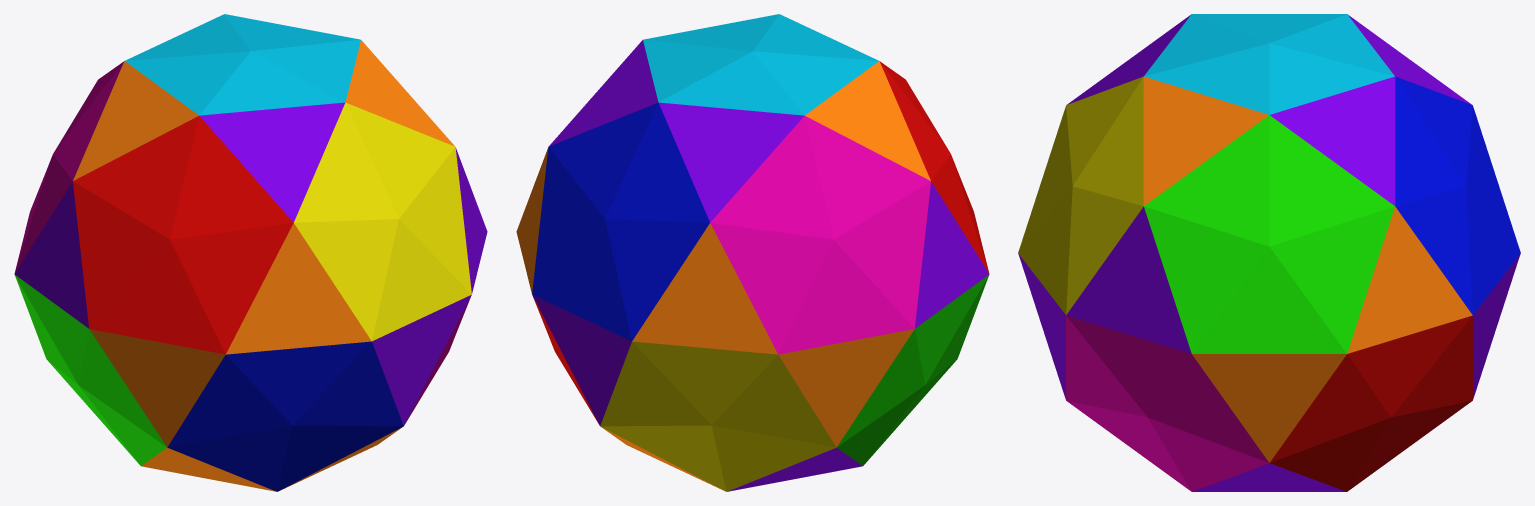
3 renders of one model, left to right at view 1: azimuth 30°, elevation 25°; view 2: azimuth 150°, elevation 25°; view 3: azimuth 270°, elevation 25°, orthographic. The views are drawn at different scales.
Parts seen in each view (by area): view 1: Icosphere_2a; view 2: Icosphere_2a; view 3: Icosphere_2a.
Part boxes in pixels (x1,y1,x2,y2): Icosphere_2a: [14, 14, 487, 491]; Icosphere_2a: [516, 14, 989, 491]; Icosphere_2a: [1018, 14, 1520, 491].
Bounding box in the file's own units: 1.9 × 1.84 × 2.
